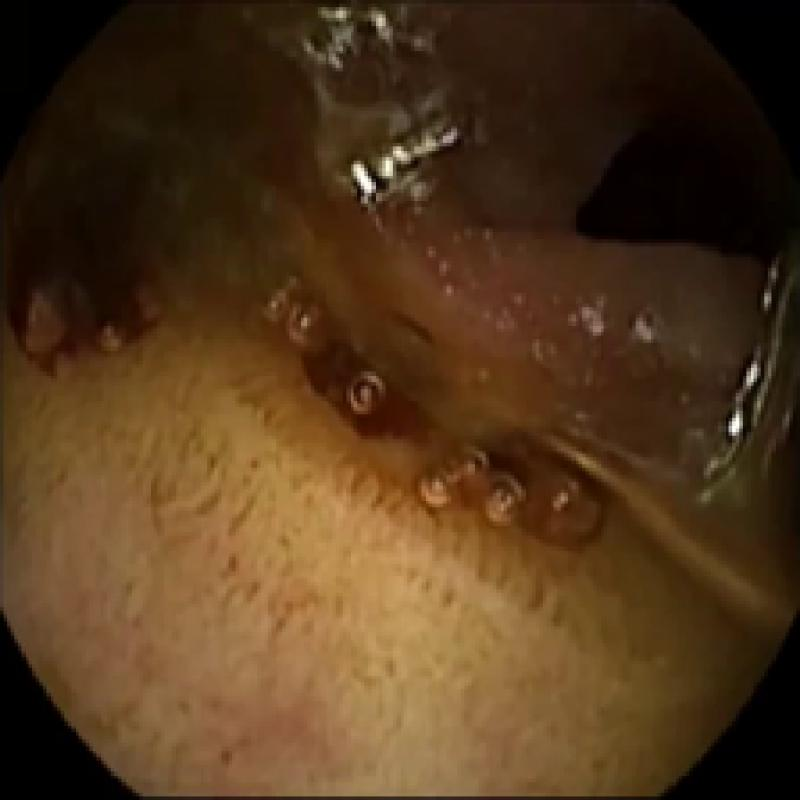bleeding: (15, 14, 296, 357), (310, 330, 433, 440), (484, 430, 611, 505)
